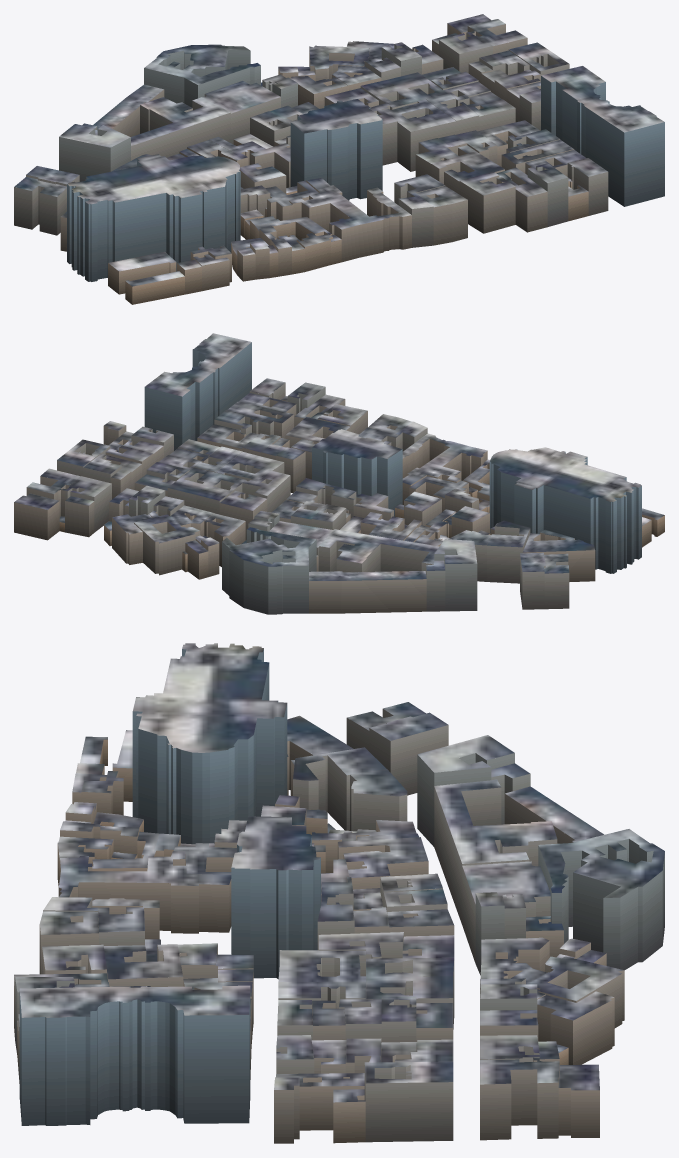
The picture shows the model from 3 angles, top to bottom: view 1: azimuth 30°, elevation 25°; view 2: azimuth 150°, elevation 25°; view 3: azimuth 270°, elevation 25°; orthographic projection. The views are drawn at different scales.
Size of the model in its own units: 326 by 44.44 by 231.
Materials: 2 (2 with a texture image).
